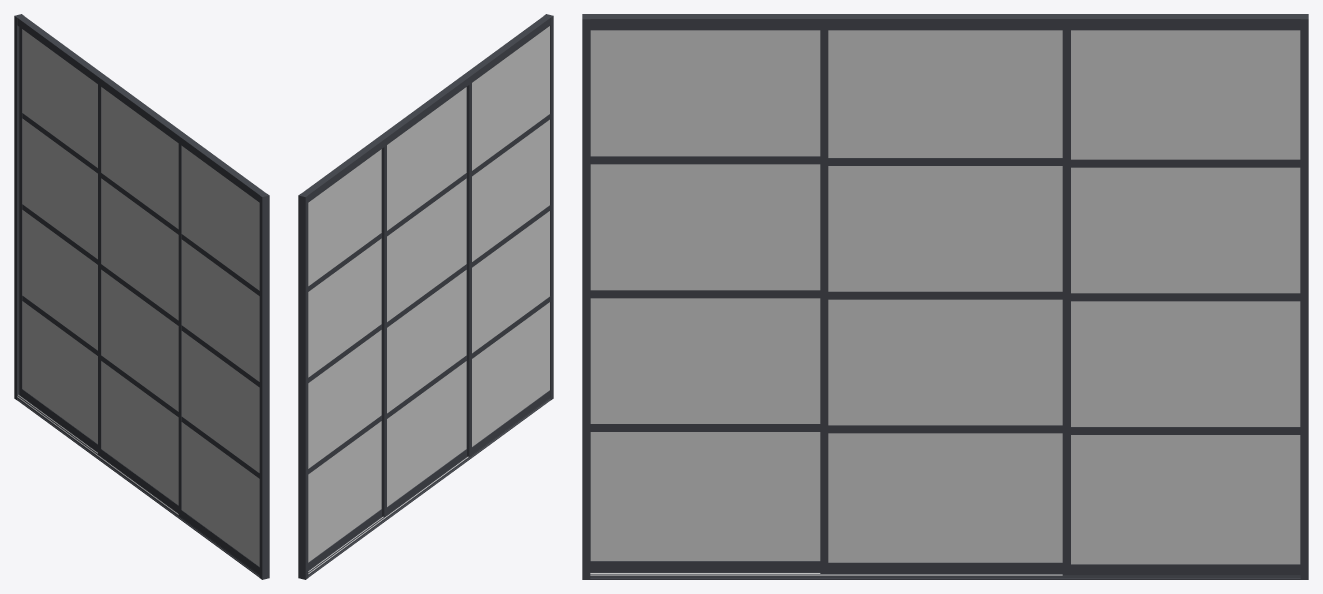
The model's file is nebbiolo_steel_door_left_600_300.glb.
The picture shows the model from 3 angles, left to right: view 1: azimuth 30°, elevation 25°; view 2: azimuth 150°, elevation 25°; view 3: azimuth 270°, elevation 25°; orthographic projection. The views are drawn at different scales.
Visible parts, largest first — view 1: steel_door_left_600_300; view 2: steel_door_left_600_300; view 3: steel_door_left_600_300.
Boxes of the visible parts, x1=… form: steel_door_left_600_300: x1=14, y1=14, x2=269, y2=579; steel_door_left_600_300: x1=298, y1=14, x2=553, y2=579; steel_door_left_600_300: x1=582, y1=14, x2=1308, y2=579.
Size of the model in its own units: 0.0501 by 2.5 by 2.94.
3 materials, 1 textured.
